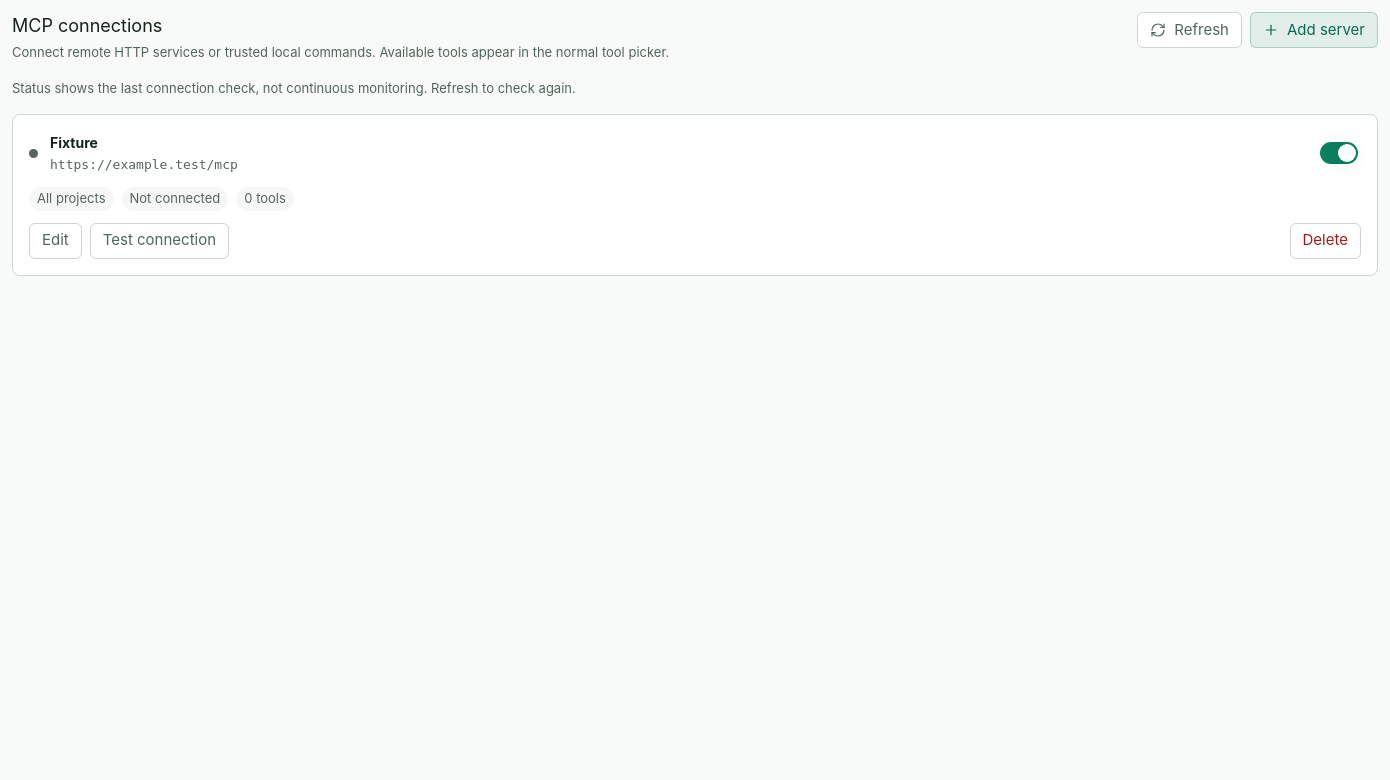
Scenario: MCP timeout and connection status UI › keeps invalid  seconds in the editor without sending a request
What coordinates should you click on to do the following:
click the button "Edit"
I would click on:
 (55, 240)
Its box is [29,222,82,258].
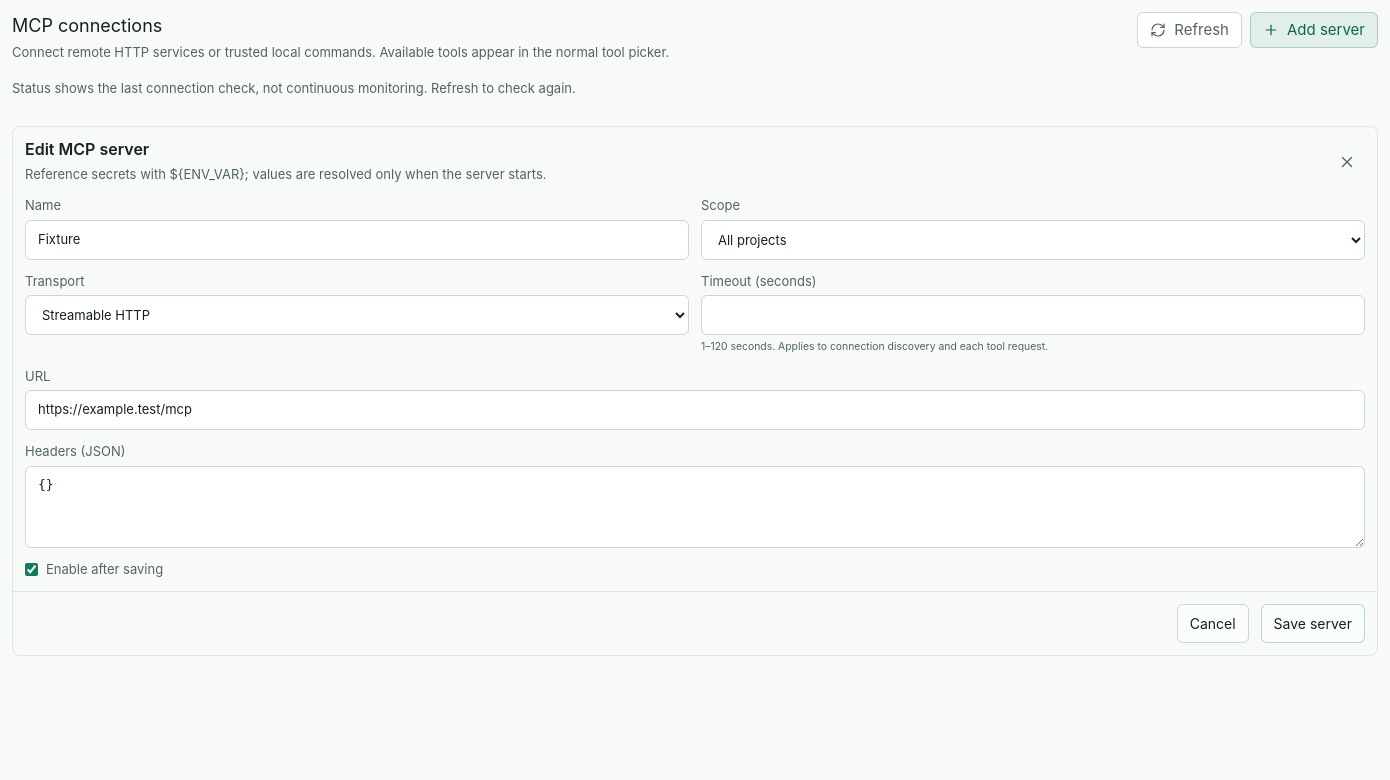
What coordinates should you click on to do the following:
click the button "Save server"
I would click on:
 (1313, 624)
Its box is [1261,604,1365,643].
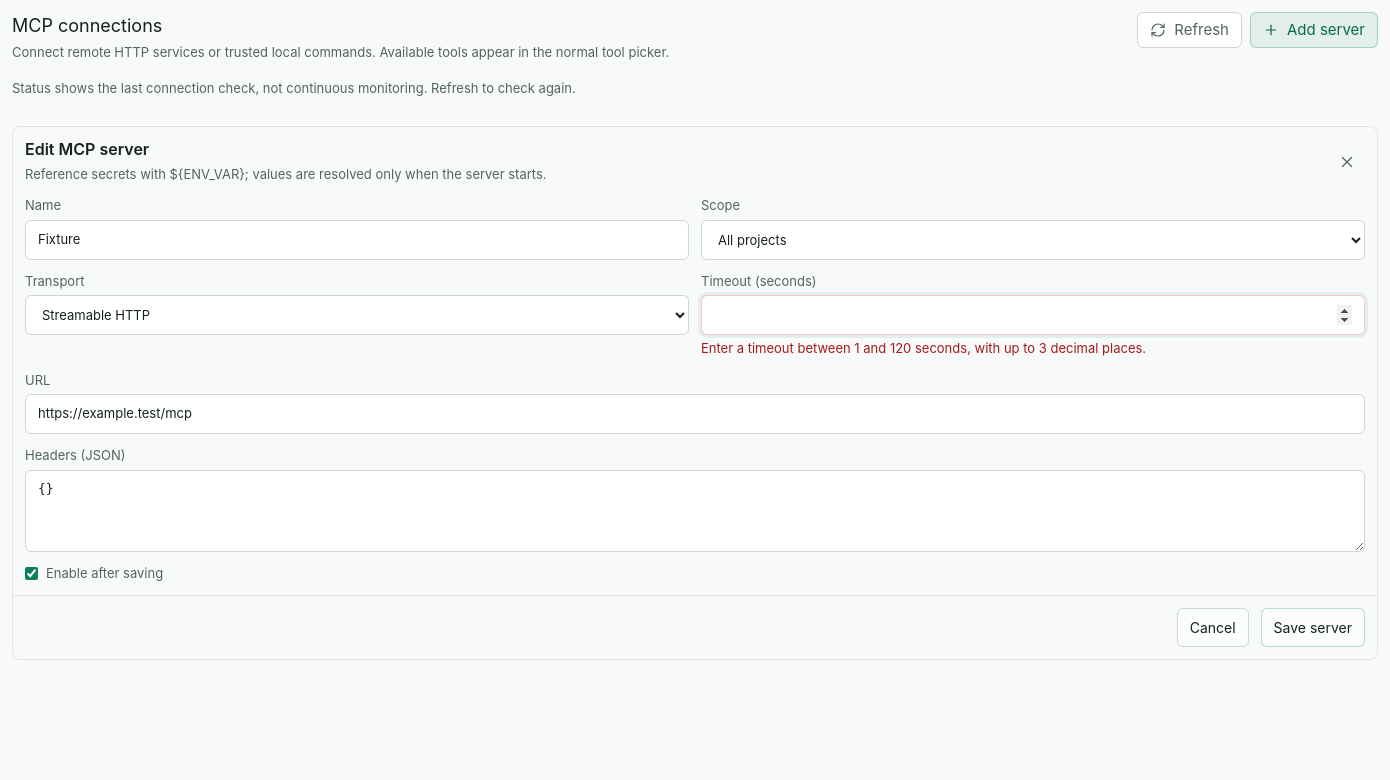
Expected: the text "between 1 and 120 seconds" is shown, [701,340,1146,356]
